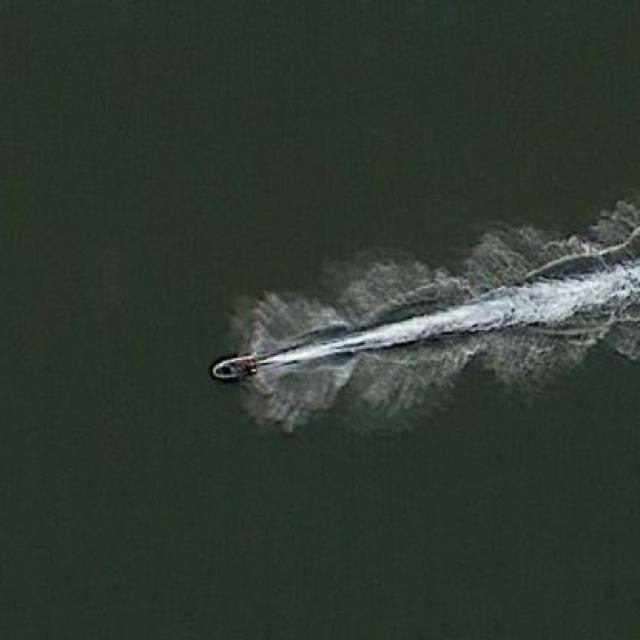ship: (210, 346, 270, 384)
